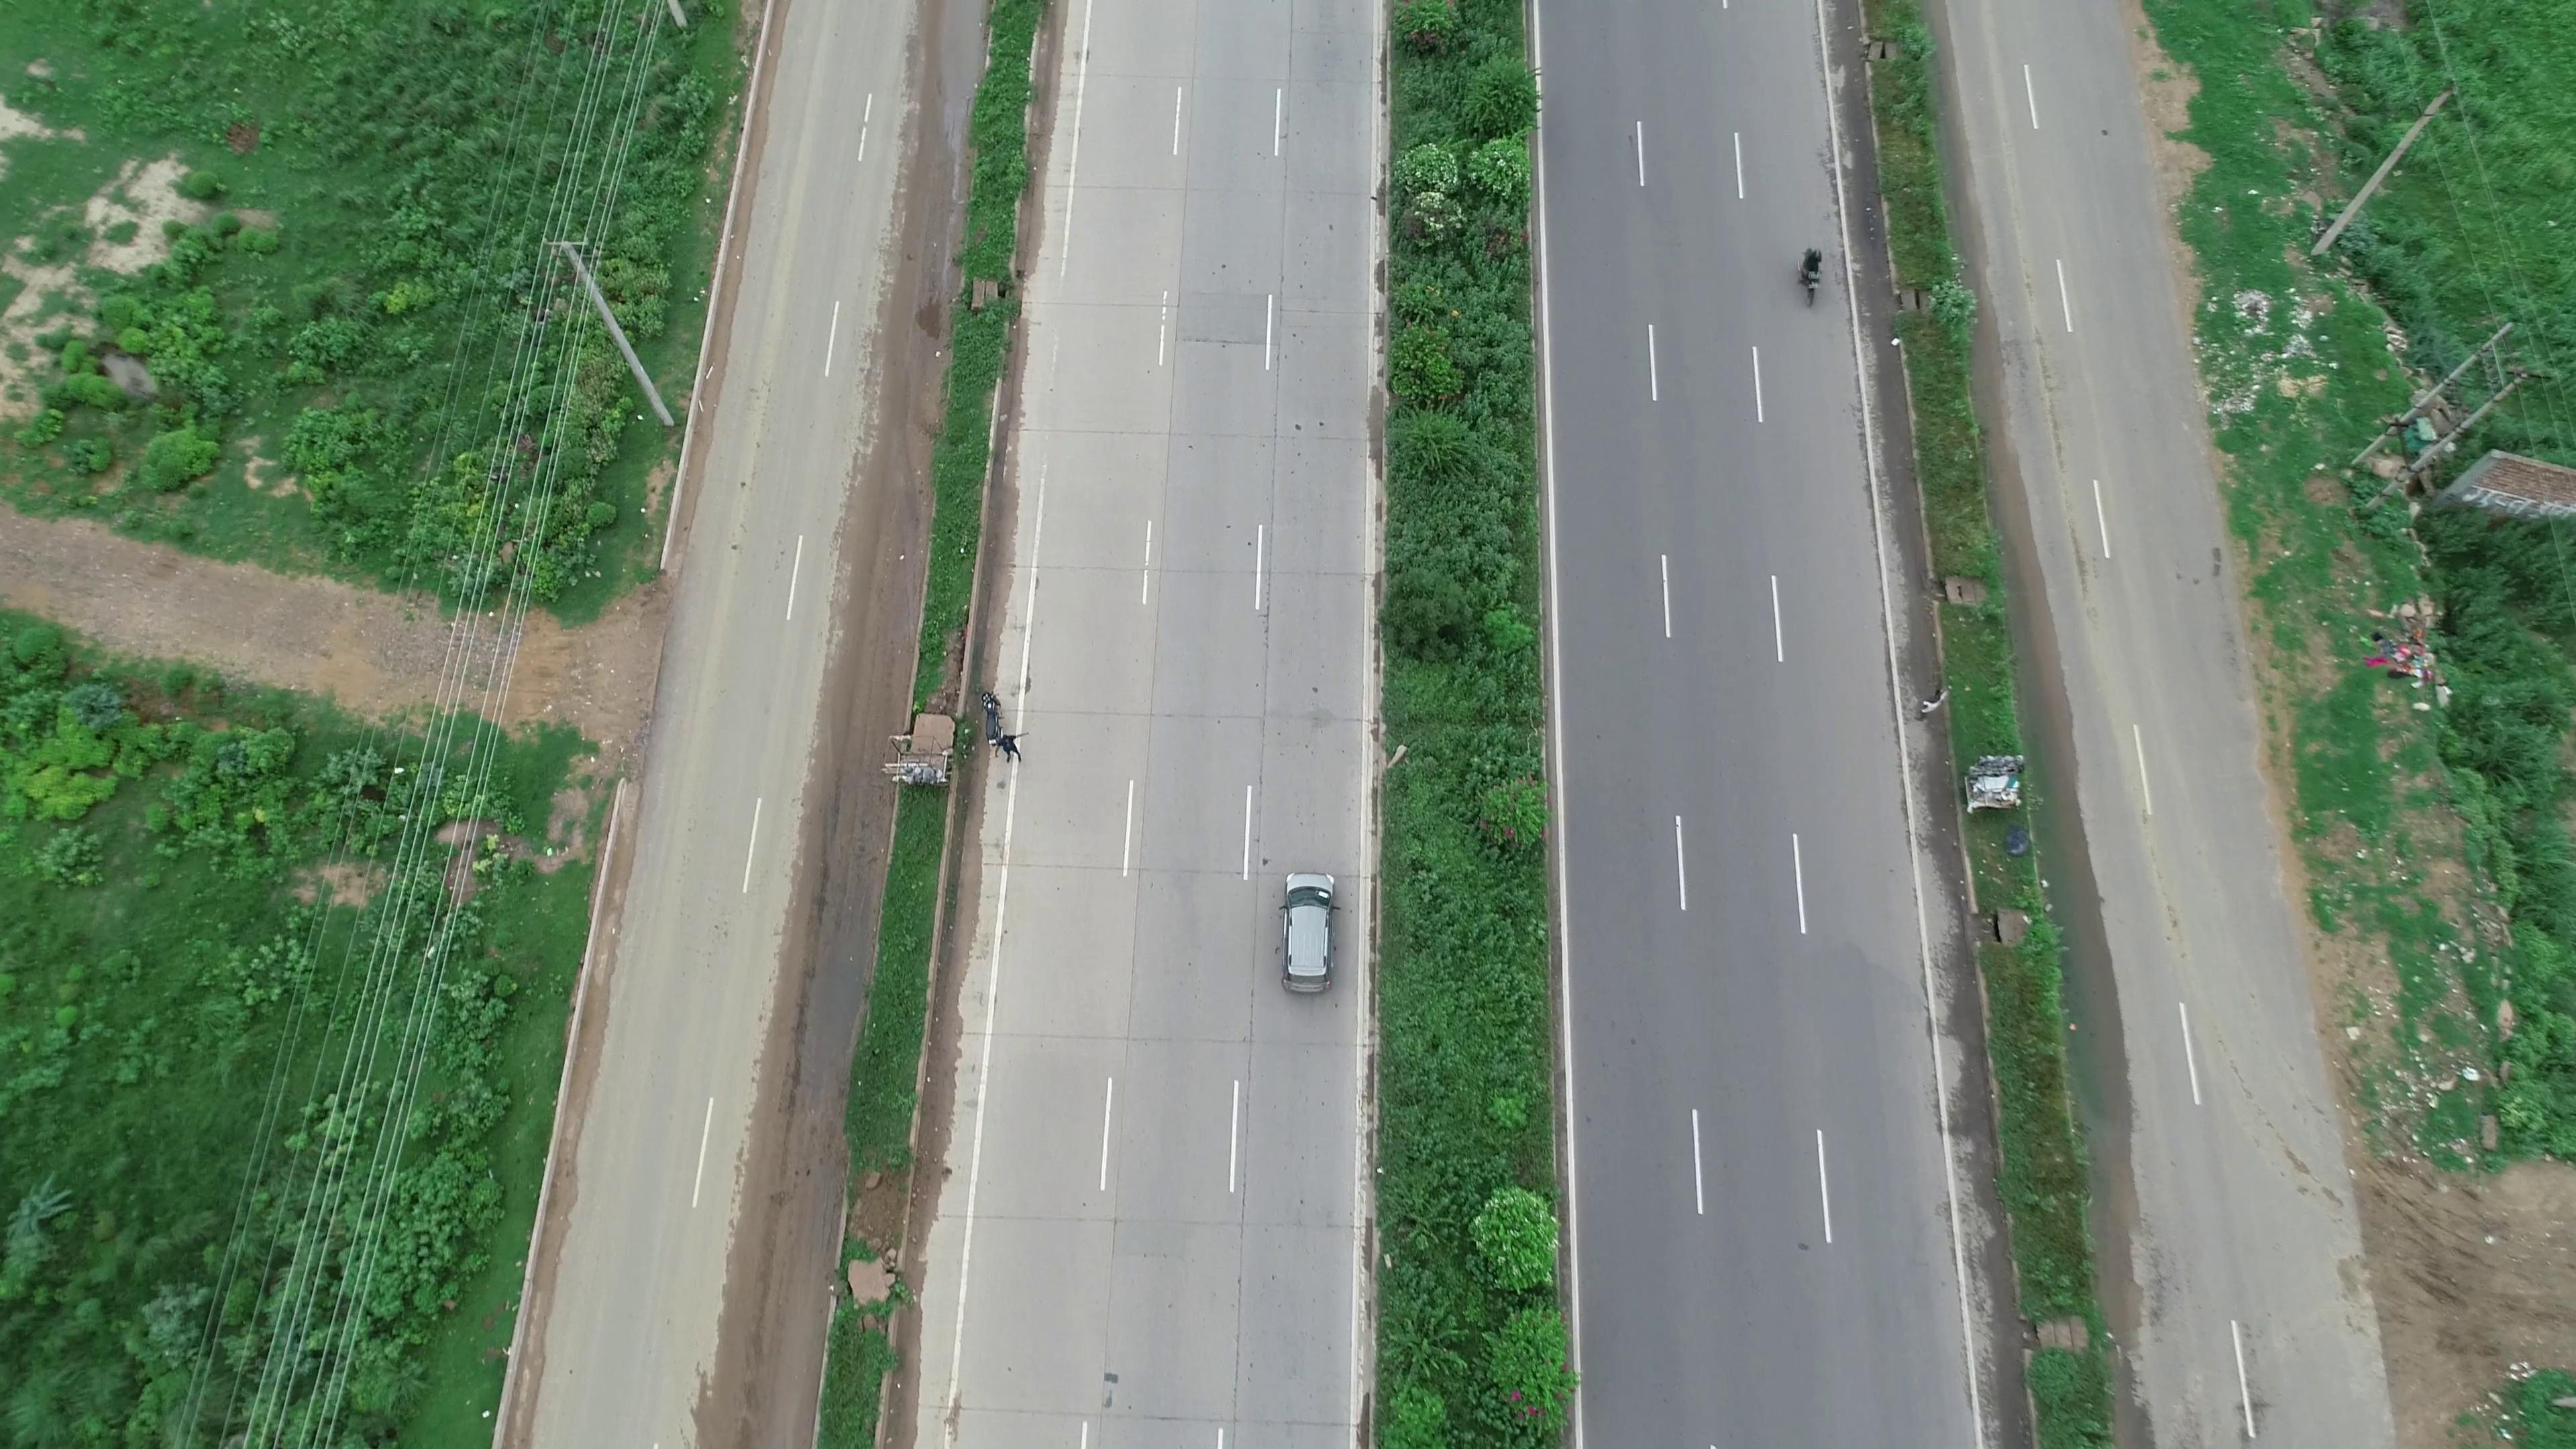Muddy_road: (720, 863, 878, 1261), (816, 425, 916, 784)
